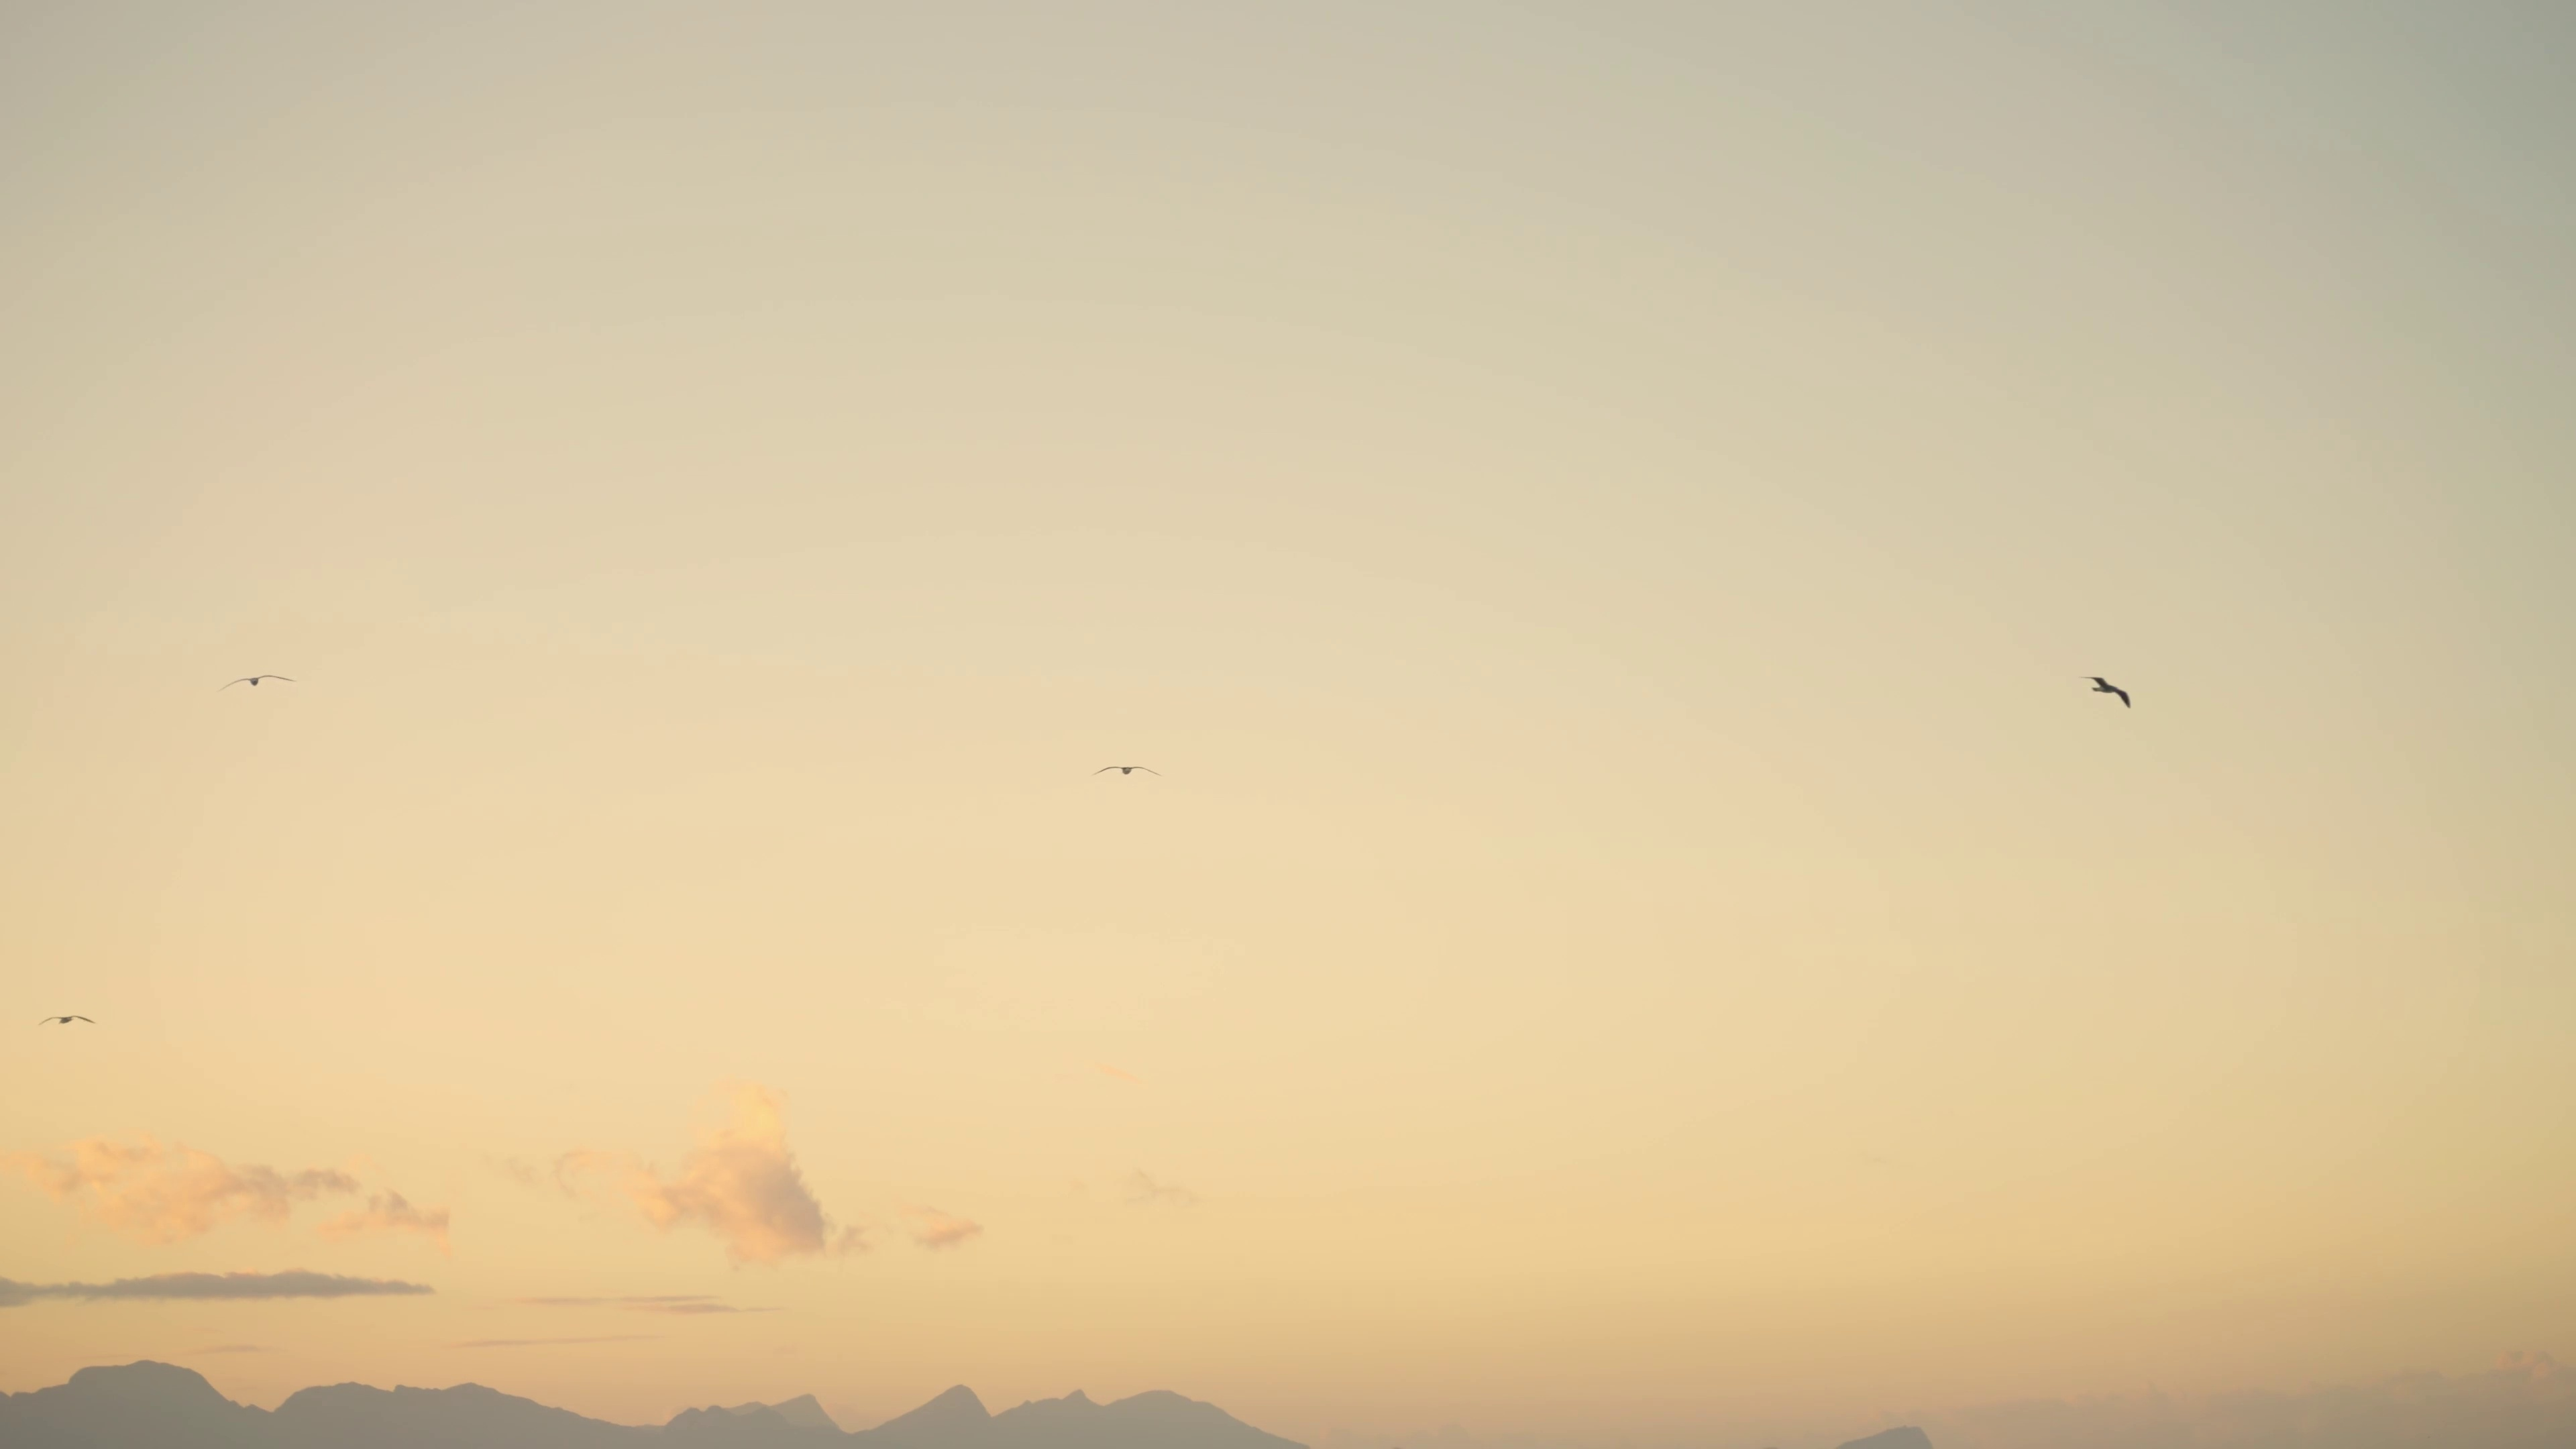bird: (2086, 676, 2132, 711), (216, 674, 297, 692), (1095, 764, 1162, 777), (39, 1016, 97, 1026)
